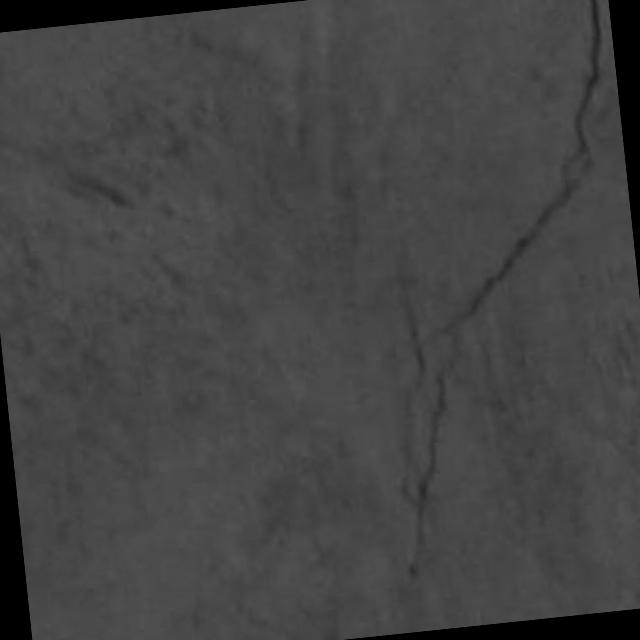crack: (404, 0, 602, 577), (442, 0, 602, 332), (409, 370, 446, 577)
